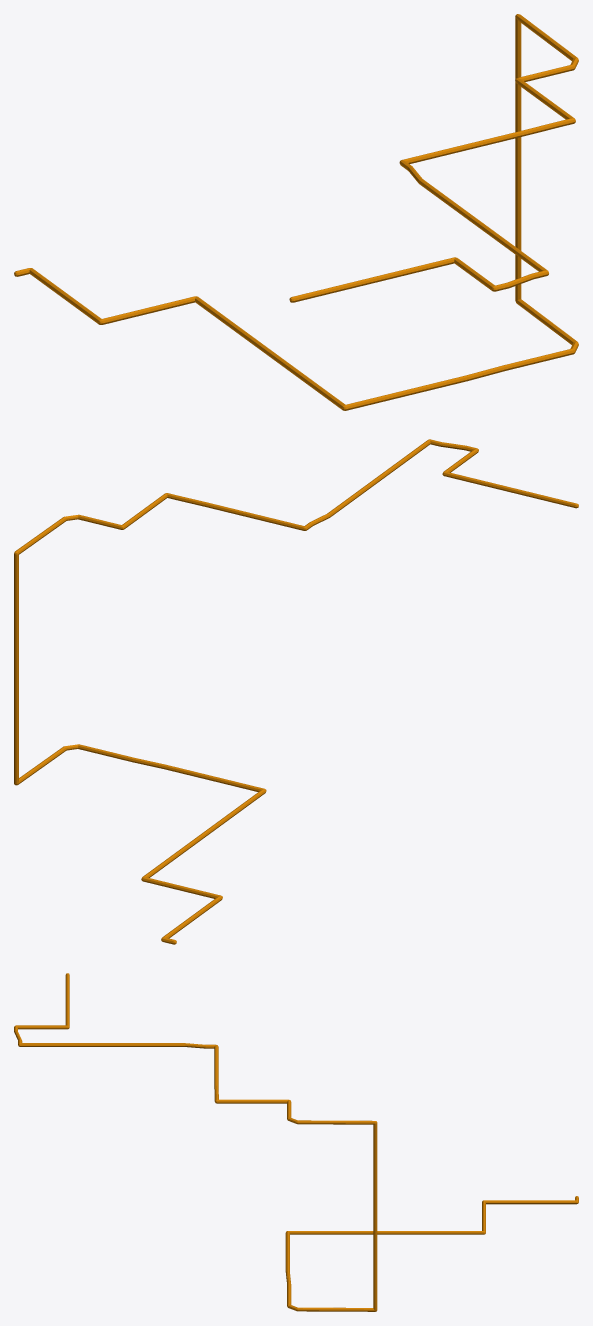
3 renders of one model, top to bottom at view 1: azimuth 30°, elevation 25°; view 2: azimuth 150°, elevation 25°; view 3: azimuth 270°, elevation 25°, orthographic. The views are drawn at different scales.
Size of the model in its own units: 1713 by 1020 by 2736.
